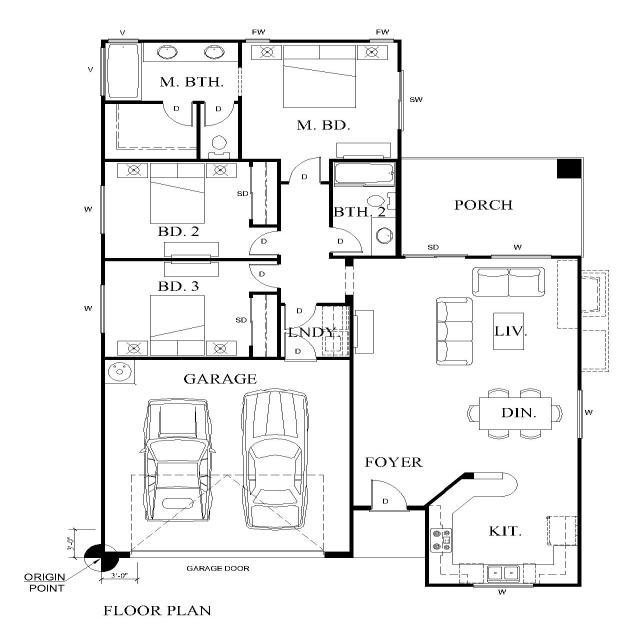Column: (556, 158, 582, 178)
Door: (370, 506, 410, 511), (284, 356, 316, 362), (286, 180, 323, 185), (205, 100, 235, 106), (328, 225, 334, 253), (285, 302, 320, 306), (161, 101, 195, 105), (277, 262, 282, 288), (278, 230, 282, 256)
Garage Door: (125, 550, 329, 559)
Opening: (344, 265, 354, 297), (236, 65, 242, 96)
Sliding Door: (248, 165, 254, 221), (403, 255, 468, 259), (249, 296, 254, 348)
Ventilator: (99, 46, 106, 98), (107, 37, 140, 43)
Window: (470, 583, 536, 589), (489, 254, 553, 260), (100, 184, 106, 236), (99, 284, 105, 336), (577, 388, 583, 438)
